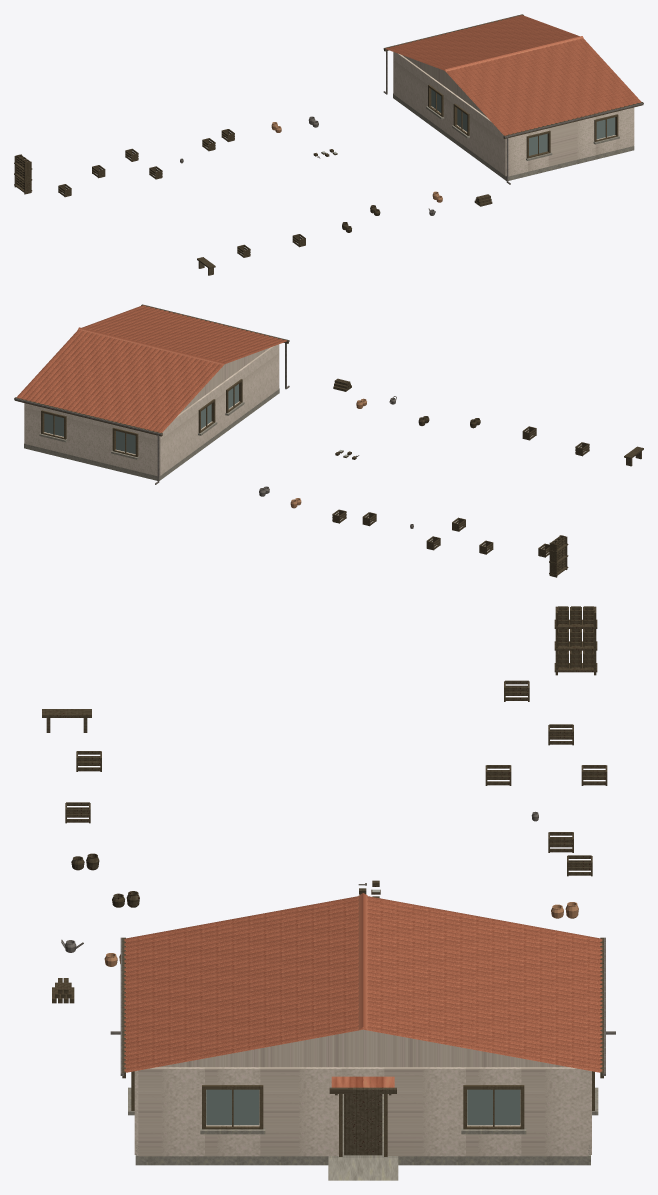
The picture shows the model from 3 angles, top to bottom: view 1: azimuth 30°, elevation 25°; view 2: azimuth 150°, elevation 25°; view 3: azimuth 270°, elevation 25°; orthographic projection. The views are drawn at different scales.
Parts seen in each view (by area): view 1: H08_TELHAS, H08_FUNDOS, H08_LATERAIS, H08_FUNDACAO, H08_VIDROS_RECUADOS, H08_CAIXILHOS, H08_OITOES, H08_BEIRAIS, H08_CALHA, H08_CUMEEIRA; view 2: H08_TELHAS, H08_FUNDOS, H08_LATERAIS, H08_FUNDACAO, H08_VIDROS_RECUADOS, H08_CAIXILHOS, H08_OITOES, H08_BEIRAIS, H08_CALHA, H08_CUMEEIRA; view 3: H08_TELHAS, H08_FACHADA, H08_OITOES, H08_FUNDACAO, H08_VIDROS_RECUADOS, H08_PORTA_FOLHA, H08_CAIXILHOS, H08-R02-07_CAIXA_RIPAS, H08_RAMPA, H08_CUMEEIRA, H08_PEITORIS, H08_BEIRAIS.
Boxes of the visible parts, x1,y1,x2,y2 form: H08_TELHAS: (386, 15, 641, 135); H08_FUNDOS: (393, 52, 506, 176); H08_LATERAIS: (508, 107, 633, 176); H08_FUNDACAO: (393, 93, 634, 180); H08_VIDROS_RECUADOS: (431, 89, 615, 155); H08_CAIXILHOS: (428, 84, 618, 158); H08_OITOES: (402, 55, 486, 116); H08_BEIRAIS: (384, 14, 643, 138); H08_CALHA: (383, 14, 643, 137); H08_CUMEEIRA: (445, 36, 583, 71); H08_TELHAS: (17, 305, 287, 432); H08_FUNDOS: (159, 344, 279, 475); H08_LATERAIS: (25, 403, 157, 476); H08_FUNDACAO: (24, 388, 279, 480); H08_VIDROS_RECUADOS: (44, 384, 238, 454); H08_CAIXILHOS: (41, 379, 242, 456); H08_OITOES: (180, 348, 268, 413); H08_BEIRAIS: (14, 304, 288, 436); H08_CALHA: (14, 304, 289, 435); H08_CUMEEIRA: (78, 327, 224, 364); H08_TELHAS: (124, 896, 602, 1072); H08_FACHADA: (138, 1067, 588, 1156); H08_OITOES: (157, 1029, 568, 1067); H08_FUNDACAO: (135, 1090, 590, 1165); H08_VIDROS_RECUADOS: (206, 1089, 520, 1125); H08_PORTA_FOLHA: (344, 1094, 382, 1155); H08_CAIXILHOS: (131, 1071, 594, 1129); H08-R02-07_CAIXA_RIPAS: (558, 606, 593, 667); H08_RAMPA: (328, 1158, 398, 1180); H08_CUMEEIRA: (358, 893, 367, 1029); H08_PEITORIS: (128, 1087, 598, 1134); H08_BEIRAIS: (122, 937, 603, 1078).
Bounding box in the file's own units: 32.65 × 4.28 × 15.56.
Materials: 11 (8 with a texture image).
